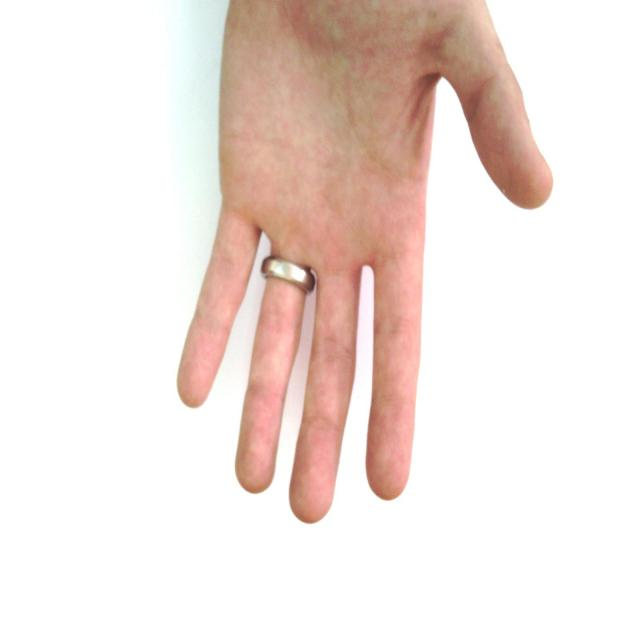others: (161, 0, 560, 549)
